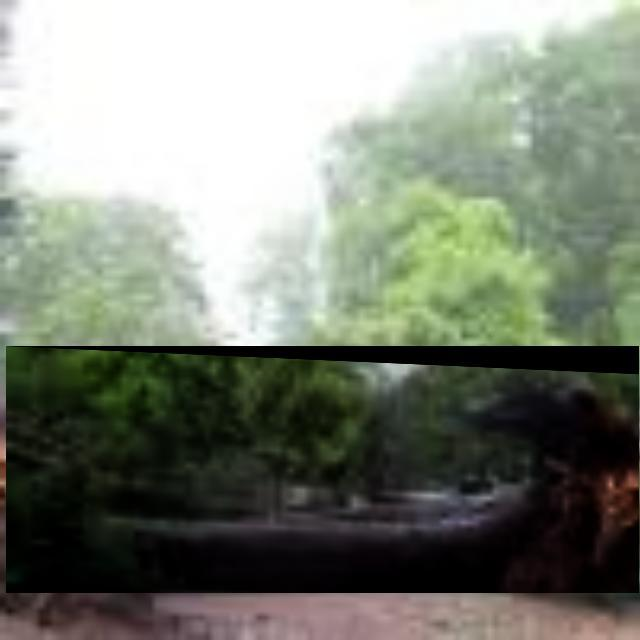fallen_tree: (6, 346, 640, 594)
